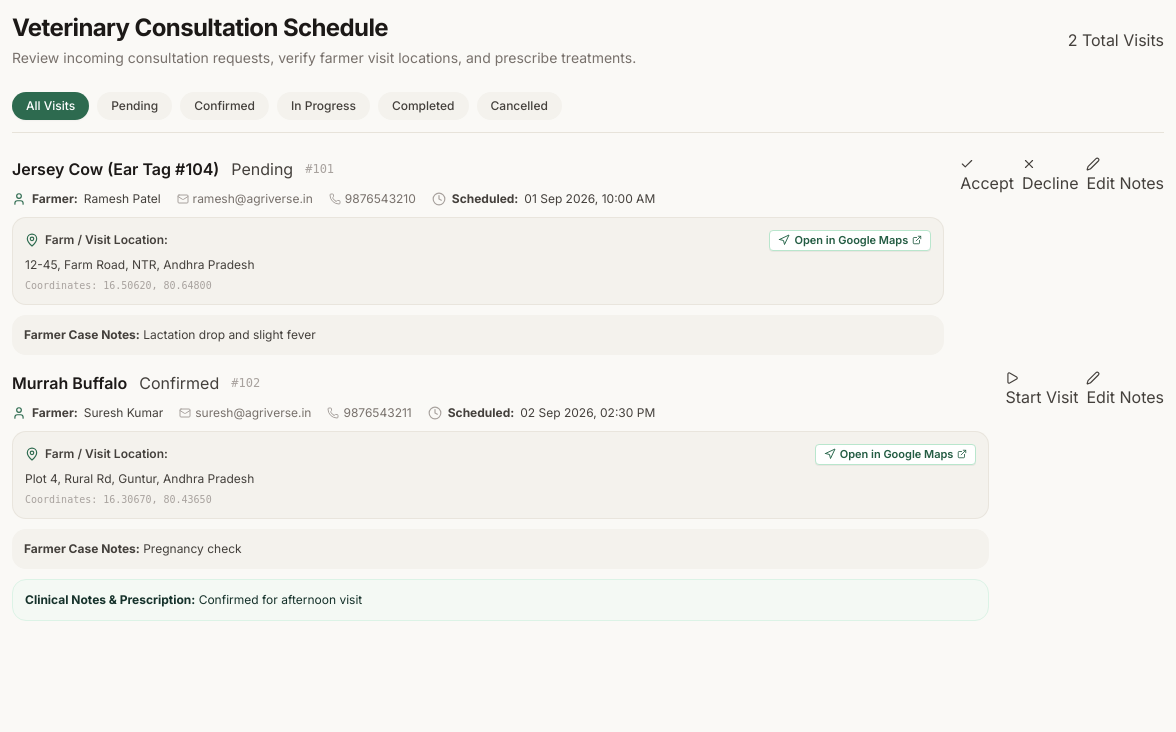
Test case: VetAppointments Component › filters appointments by status tabs (All, Pending, Confirmed)
Expected: the heading "Jersey Cow (Ear Tag #104)" is shown, [12,157,219,181]
Expected: the heading "Murrah Buffalo" is shown, [12,371,127,395]
Note: Filter by Pending tab
Click the button "Pending": (135, 106) [97,92,172,120]
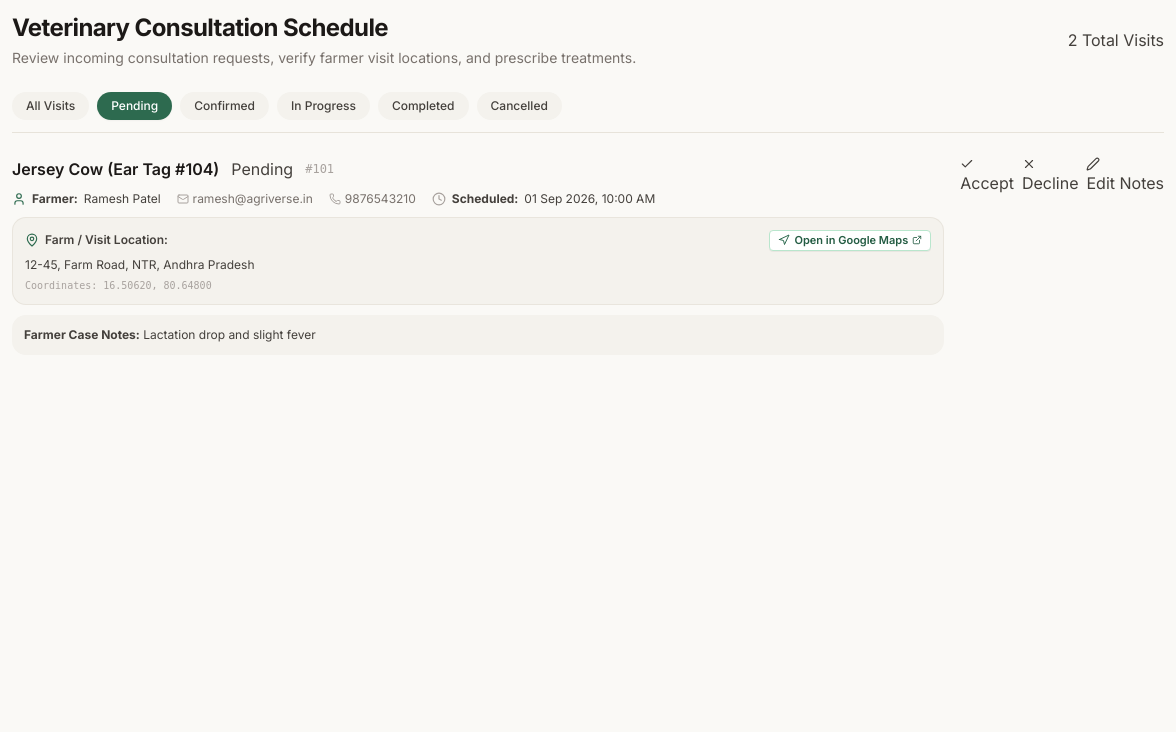
Expected: the heading "Jersey Cow (Ear Tag #104)" is shown, [12,157,219,181]
Expected: the heading "Murrah Buffalo" is gone
Note: Filter by Confirmed tab
Click the button "Confirmed": (225, 106) [180,92,269,120]
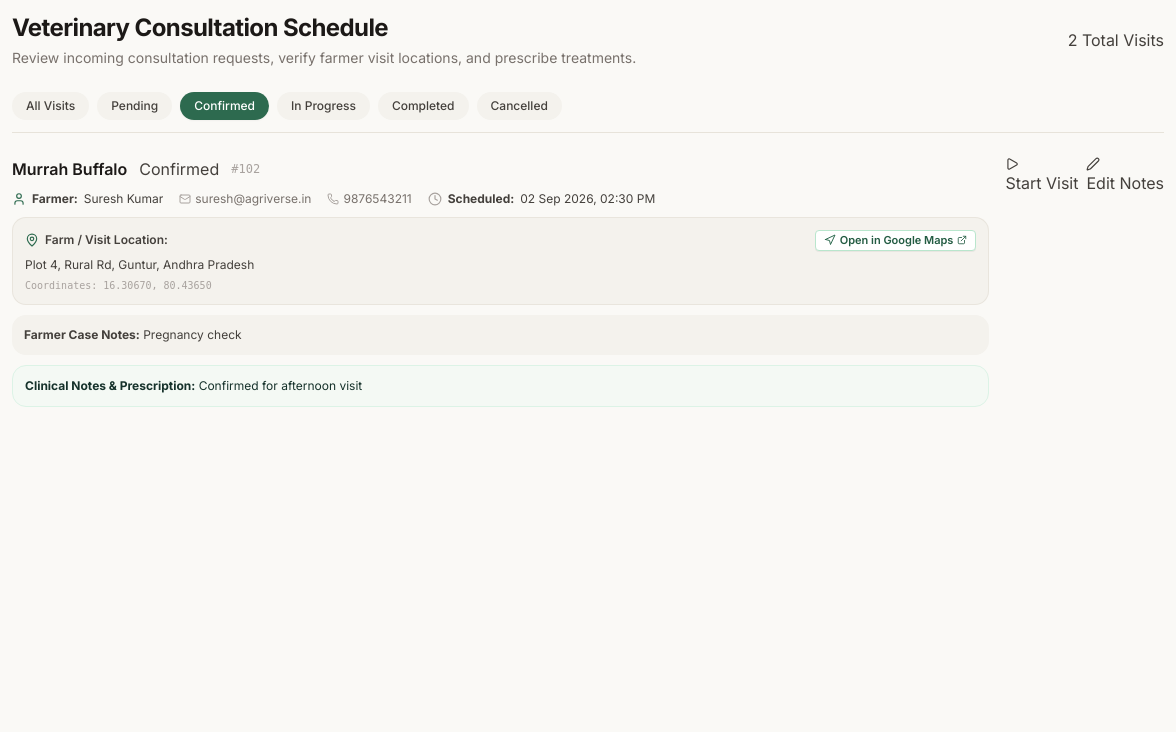
Expected: the heading "Jersey Cow (Ear Tag #104)" is gone
Expected: the heading "Murrah Buffalo" is shown, [12,157,127,181]
